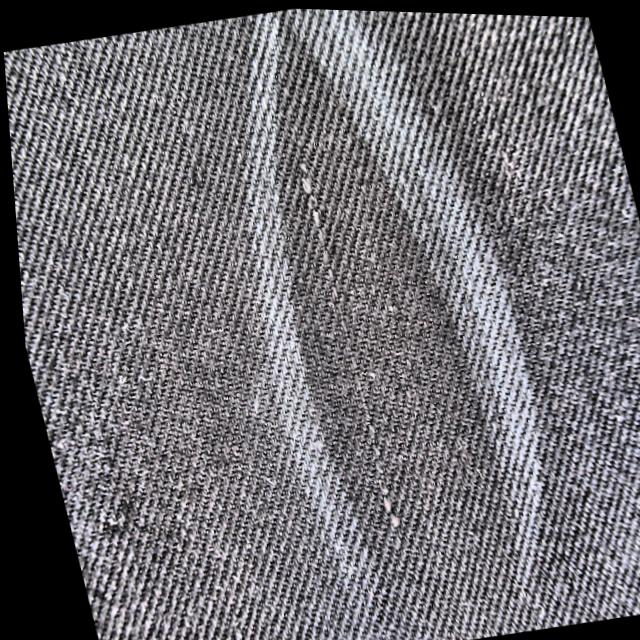Stitch: (318, 274, 378, 418), (274, 149, 345, 266), (357, 432, 410, 551)
